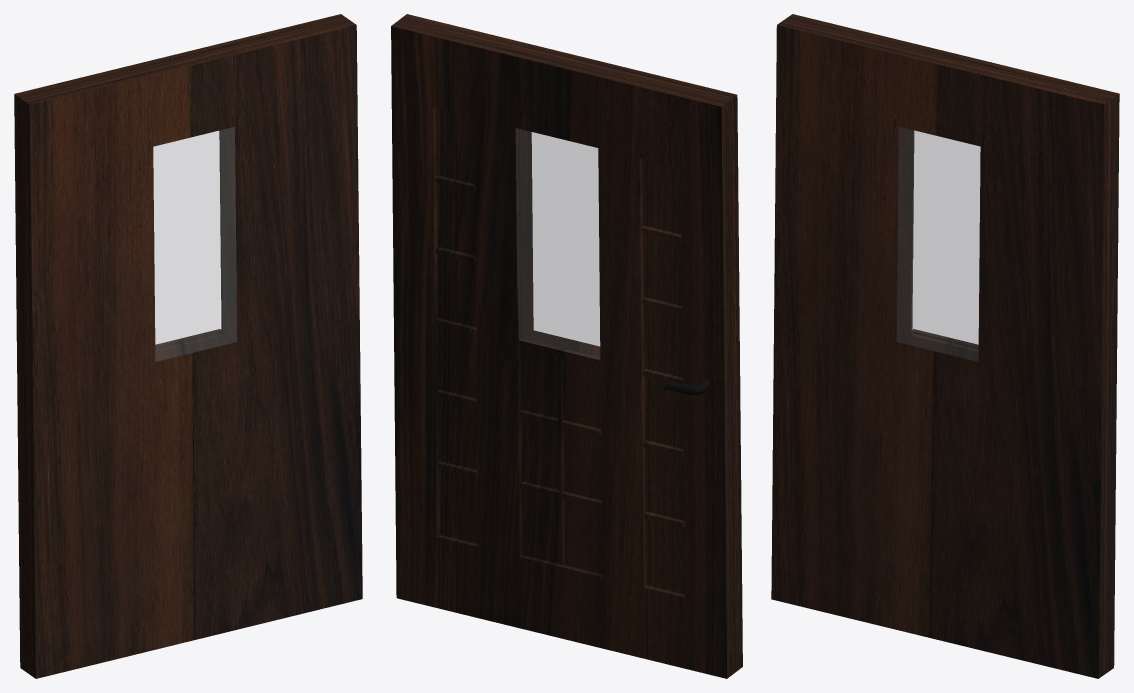
Rendered from ush.glb.
3 views of the same model, side by side, from view 1: azimuth 30°, elevation 25°; view 2: azimuth 150°, elevation 25°; view 3: azimuth 330°, elevation 25° (orthographic).
Visible parts, largest first — view 1: door; view 2: door; view 3: door.
Part boxes in pixels (x1,y1,x2,y2): door: [14, 14, 362, 678]; door: [391, 14, 742, 678]; door: [771, 14, 1119, 678].
Size of the model in its own units: 1.28 by 2.13 by 0.2146.
Materials: 4 (1 with a texture image).
